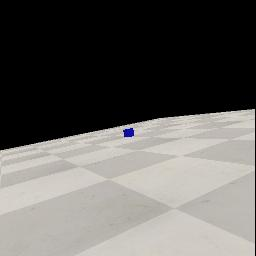box: (123, 128, 134, 137)
